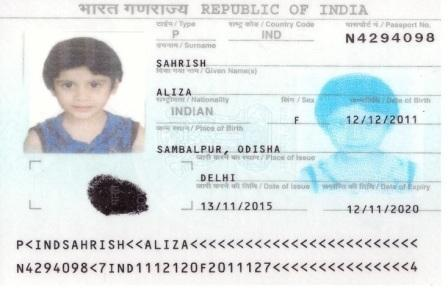DOB: (344, 111, 421, 125)
Surname: (155, 55, 211, 69)
country_code: (259, 28, 287, 44)
date_of_expiry: (345, 203, 422, 213)
date_of_issue: (199, 197, 275, 212)
details: (9, 232, 427, 279)
name: (153, 83, 194, 96)
nationality: (166, 105, 215, 118)
passport_no: (344, 29, 436, 46)
photo: (24, 29, 146, 154)
place_of_birth: (156, 141, 283, 155)
place_of_issue: (200, 169, 236, 182)
sex: (291, 114, 300, 125)
type: (168, 27, 186, 41)
